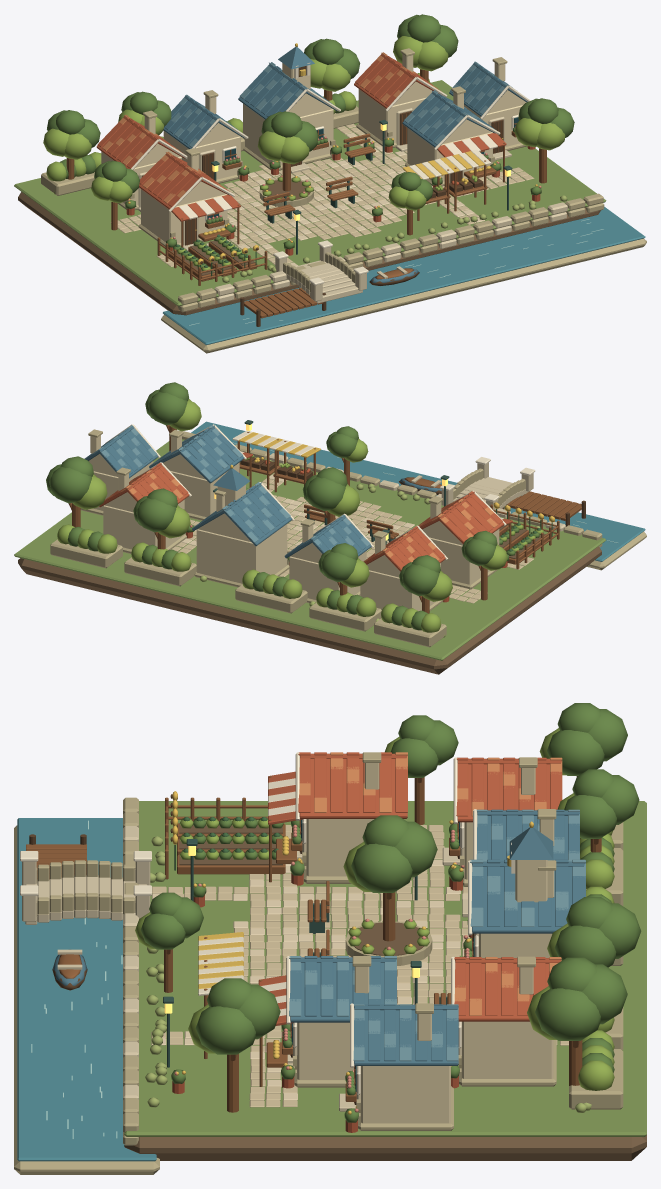
The model's file is town_environment.glb.
The picture shows the model from 3 angles, top to bottom: view 1: azimuth 30°, elevation 25°; view 2: azimuth 150°, elevation 25°; view 3: azimuth 270°, elevation 25°; orthographic projection. The views are drawn at different scales.
Visible parts, largest first — view 1: Village_grass, Village_stone, Village_water, Village_cream, Village_leaf, Village_leafLight, Village_path, Village_wood, Village_roofRed, Village_roofBlue, Village_stoneLight, Village_soil (+8 smaller); view 2: Village_grass, Village_cream, Village_leaf, Village_stone, Village_soil, Village_leafLight, Village_roofBlue, Village_wood, Village_roofRed, Village_water, Village_path, Village_roofLight (+6 smaller); view 3: Village_grass, Village_leaf, Village_water, Village_cream, Village_stone, Village_roofBlue, Village_roofRed, Village_soil, Village_path, Village_wood, Village_leafLight, Village_stoneLight (+8 smaller).
Boxes of the visible parts, x1,y1,x2,y2 form: Village_grass: (14,80,606,306); Village_stone: (41,48,646,353); Village_water: (163,207,645,345); Village_cream: (101,54,526,243); Village_leaf: (47,14,574,269); Village_leafLight: (43,36,565,272); Village_path: (110,123,534,266); Village_wood: (66,69,546,318); Village_roofRed: (96,53,540,255); Village_roofBlue: (163,47,527,282); Village_stoneLight: (138,108,567,303); Village_soil: (18,179,600,315); Village_grass: (14,439,606,660); Village_cream: (89,435,499,611); Village_leaf: (46,382,539,630); Village_stone: (50,429,646,647); Village_soil: (18,525,601,674); Village_leafLight: (57,399,543,632); Village_roofBlue: (84,426,441,558); Village_wood: (68,425,581,613); Village_roofRed: (99,452,512,602); Village_water: (191,421,645,561); Village_path: (171,473,533,603); Village_roofLight: (87,425,370,555); Village_grass: (124,801,646,1136); Village_leaf: (140,703,641,1122); Village_water: (17,818,156,1161); Village_cream: (297,763,554,1123); Village_stone: (14,752,623,1174); Village_roofBlue: (53,809,585,1065); Village_roofRed: (172,752,562,1132); Village_soil: (124,823,646,1160); Village_path: (151,825,568,1107); Village_wood: (26,776,601,1112); Village_leafLight: (135,728,614,1090); Village_stoneLight: (22,819,478,1111).
Size of the model in its own units: 24 by 6.8 by 18.65.
